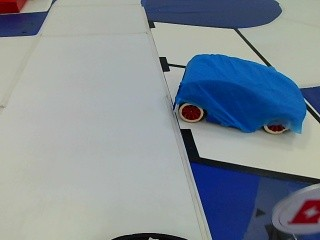car: (166, 50, 306, 138)
